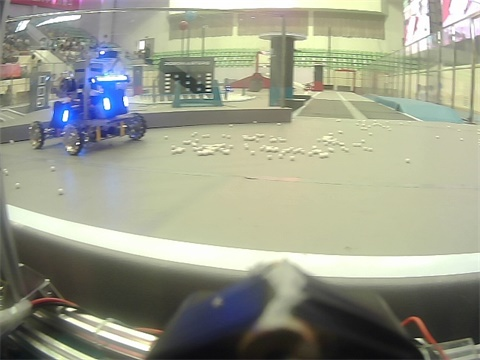chariot: (45, 44, 154, 165)
